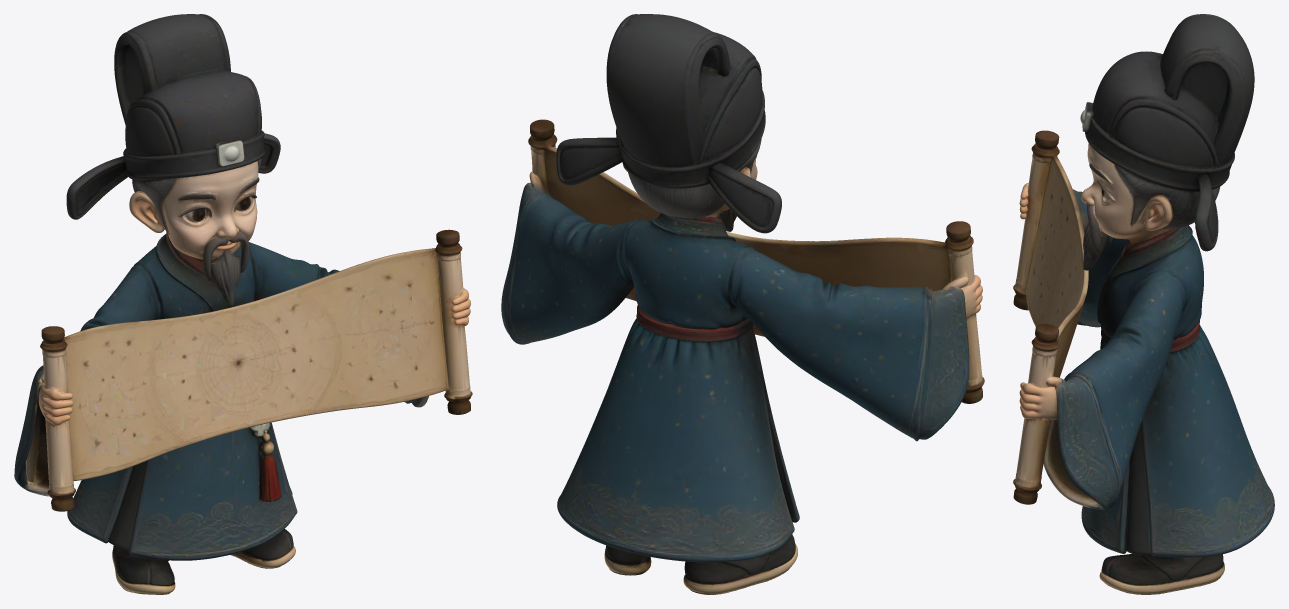
File: chart.glb
The picture shows the model from 3 angles, left to right: view 1: azimuth 30°, elevation 25°; view 2: azimuth 150°, elevation 25°; view 3: azimuth 270°, elevation 25°; orthographic projection. The views are drawn at different scales.
Visible parts, largest first — view 1: node_0; view 2: node_0; view 3: node_0.
Part boxes in pixels (box(x1,y1,x2,y2)): node_0: box(14, 14, 472, 594); node_0: box(501, 14, 984, 594); node_0: box(1013, 14, 1274, 594).
Size of the model in its own units: 0.9901 by 1.15 by 0.513.
Materials: 1 (1 with a texture image).
